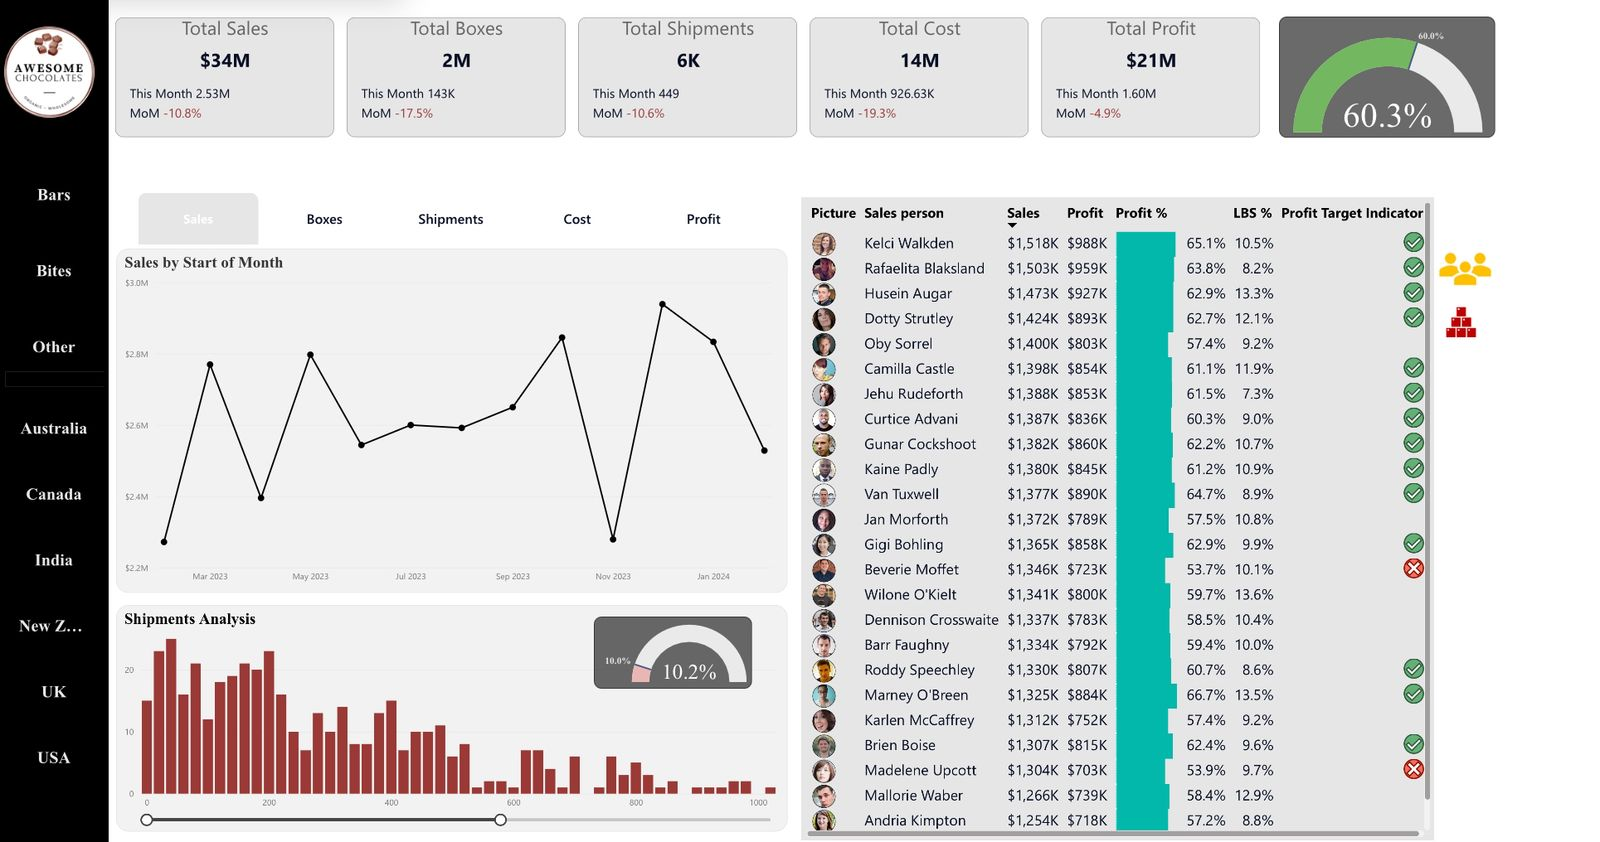

The page's visual inventory and layout, read from the dashboard file:
{"tool":"powerbi","page":{"name":"Sales Report","canvas":[1920,1080],"ordinal":0},"visuals":[{"type":"image","title":"Product Icon","box":[1806,369.7,114.3,89.6],"z":0},{"type":"shape","box":[0,0,138.9,1080],"z":1000},{"type":"cardVisual","fields":{"Data":["shipments.Total Sales","shipments.Total Boxes","shipments.Total Shipments","shipments.Total Cost","shipments.Total Profit"]},"box":[141.2,20.2,1472.1,163.6],"z":2000},{"type":"gauge","fields":{"Y":["shipments.Profit %"]},"box":[1629,24.6,275.6,154.6],"z":3000},{"type":"image","box":[0,24.6,125.5,141.2],"z":4000},{"type":"lineChart","fields":{"Y":["shipments.Total Sales"],"Category":["calendar.Start of Month"]},"box":[147.9,320.4,855.9,439.2],"z":5000},{"type":"advancedSlicerVisual","fields":{"Values":["Measure Selector .Measure Selector "]},"box":[170.3,244.2,811.1,76.2],"z":6000},{"type":"columnChart","title":"Shipments Analysis","fields":{"Category":["shipments.Boxes (bins)"],"Y":["shipments.Total Shipments Latest Month"]},"box":[147.9,775.3,855.9,289],"z":7000},{"type":"gauge","fields":{"Y":["shipments.LBS %"]},"box":[757.3,791,201.7,91.9],"z":8000},{"type":"tableEx","title":"Product Details","fields":{"Values":["products.Product","shipments.Total Sales","shipments.Total Profit","shipments.Profit %","shipments.LBS %","shipments.Profit Target Indicator"]},"box":[1021.8,255.5,806.7,626.6],"z":10000},{"type":"image","title":"People icon","box":[1812.7,304.7,107.6,85.1],"z":11000},{"type":"advancedSlicerVisual","title":"Category","fields":{"Values":["products.Category"]},"box":[6.7,203.9,125.5,293.5],"z":12000},{"type":"advancedSlicerVisual","title":"Category","fields":{"Values":["locations.Geo"]},"box":[6.7,506.4,125.5,506.4],"z":13000},{"type":"shape","box":[6.7,477.3,127.7,20.2],"z":14000}]}

Visuals, with their boxes on the page's 1920x1080 design canvas (x1, y1, x2, y2). These are canvas units, not pixel positions in the 1600x842 screenshot, which may show the page scaled, cropped or inside an application window:
"Product Icon" image: [left=1806, top=370, right=1920, bottom=459]
shape: [left=0, top=0, right=139, bottom=1080]
cardVisual - shipments.Total Sales x shipments.Total Boxes: [left=141, top=20, right=1613, bottom=184]
gauge - shipments.Profit %: [left=1629, top=25, right=1905, bottom=179]
image: [left=0, top=25, right=126, bottom=166]
lineChart - shipments.Total Sales x calendar.Start of Month: [left=148, top=320, right=1004, bottom=760]
advancedSlicerVisual - Measure Selector .Measure Selector : [left=170, top=244, right=981, bottom=320]
"Shipments Analysis" columnChart: [left=148, top=775, right=1004, bottom=1064]
gauge - shipments.LBS %: [left=757, top=791, right=959, bottom=883]
"Product Details" tableEx: [left=1022, top=256, right=1828, bottom=882]
"People icon" image: [left=1813, top=305, right=1920, bottom=390]
"Category" advancedSlicerVisual: [left=7, top=204, right=132, bottom=497]
"Category" advancedSlicerVisual: [left=7, top=506, right=132, bottom=1013]
shape: [left=7, top=477, right=134, bottom=498]
